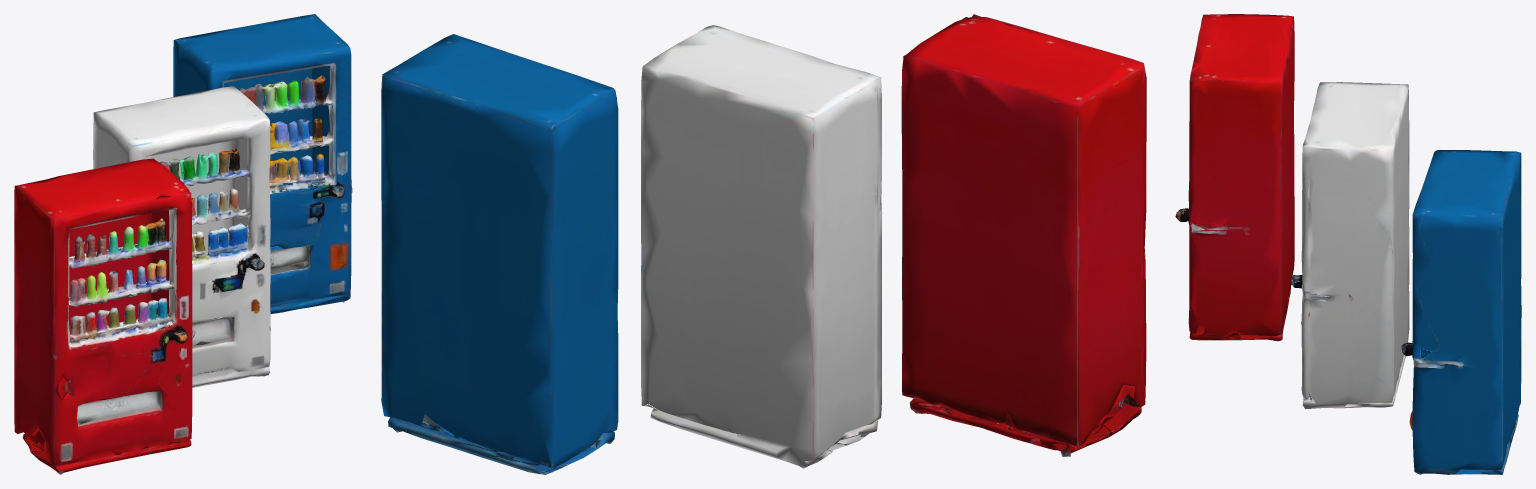
Rendered from city_vending.0.glb.
The picture shows the model from 3 angles, left to right: view 1: azimuth 30°, elevation 25°; view 2: azimuth 150°, elevation 25°; view 3: azimuth 270°, elevation 25°; orthographic projection. The views are drawn at different scales.
Visible parts, largest first — view 1: geometry_0; view 2: geometry_0; view 3: geometry_0.
Boxes of the visible parts, x1,y1,x2,y2 form: geometry_0: [14, 14, 352, 474]; geometry_0: [381, 14, 1146, 474]; geometry_0: [1175, 14, 1521, 474].
Bounding box in the file's own units: 1 × 0.6077 × 0.7167.
Materials: 1 (1 with a texture image).
